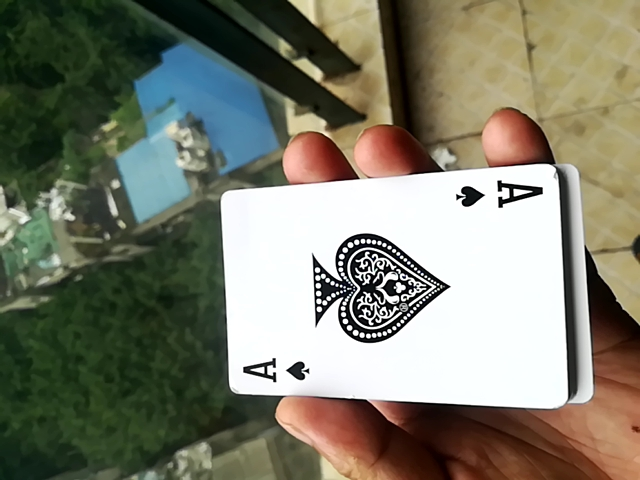ht a: (214, 164, 580, 413)
